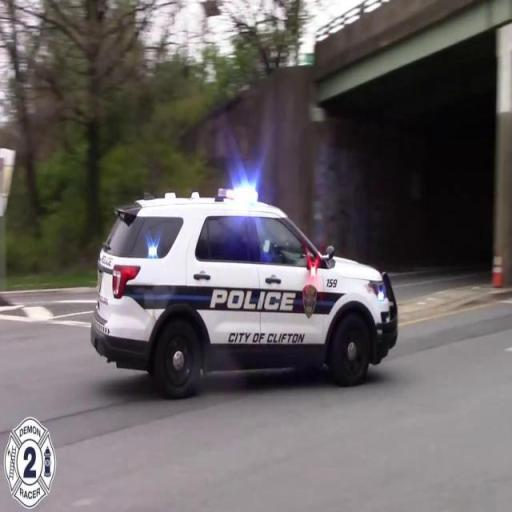Ambulance: (88, 185, 404, 387)
